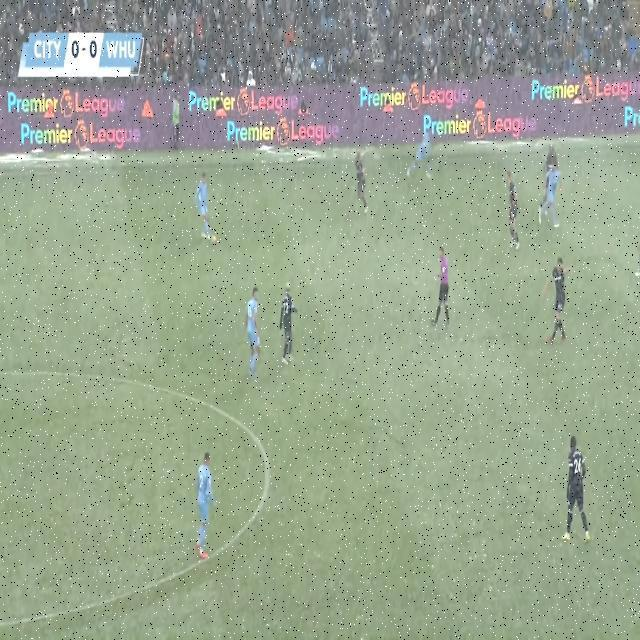ball: (205, 229, 227, 249)
player: (561, 427, 599, 559), (191, 443, 215, 575), (241, 283, 265, 395), (503, 162, 527, 266), (538, 165, 566, 239), (191, 165, 213, 248), (279, 278, 297, 378), (415, 120, 437, 196), (553, 256, 569, 348), (353, 151, 371, 227), (543, 142, 563, 173)
referee: (433, 241, 457, 343)
